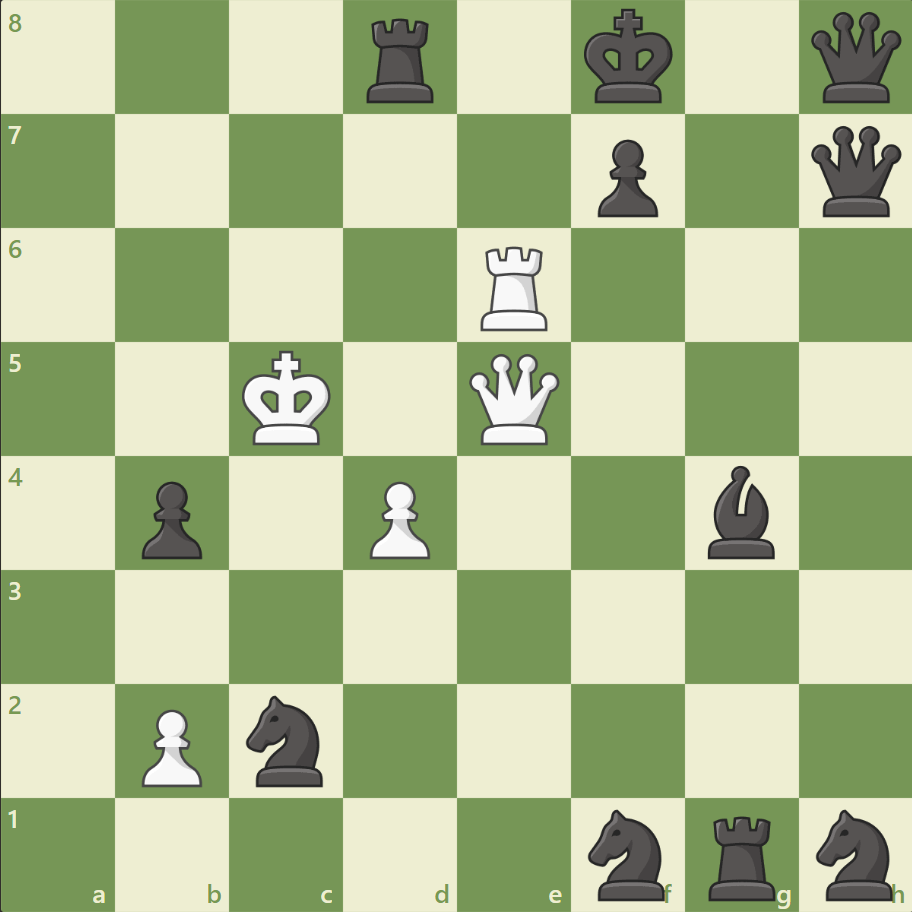K: (238, 344, 338, 452)
P: (133, 700, 208, 791), (361, 473, 435, 564)
Q: (464, 349, 563, 449)
R: (473, 239, 556, 336)
b: (698, 460, 782, 563)
k: (579, 4, 679, 112)
n: (238, 688, 335, 791), (579, 802, 676, 904), (806, 802, 903, 904)
p: (133, 473, 208, 564), (588, 132, 662, 223)
q: (805, 122, 904, 222), (805, 9, 904, 108)
r: (700, 806, 783, 904), (360, 12, 442, 109)
